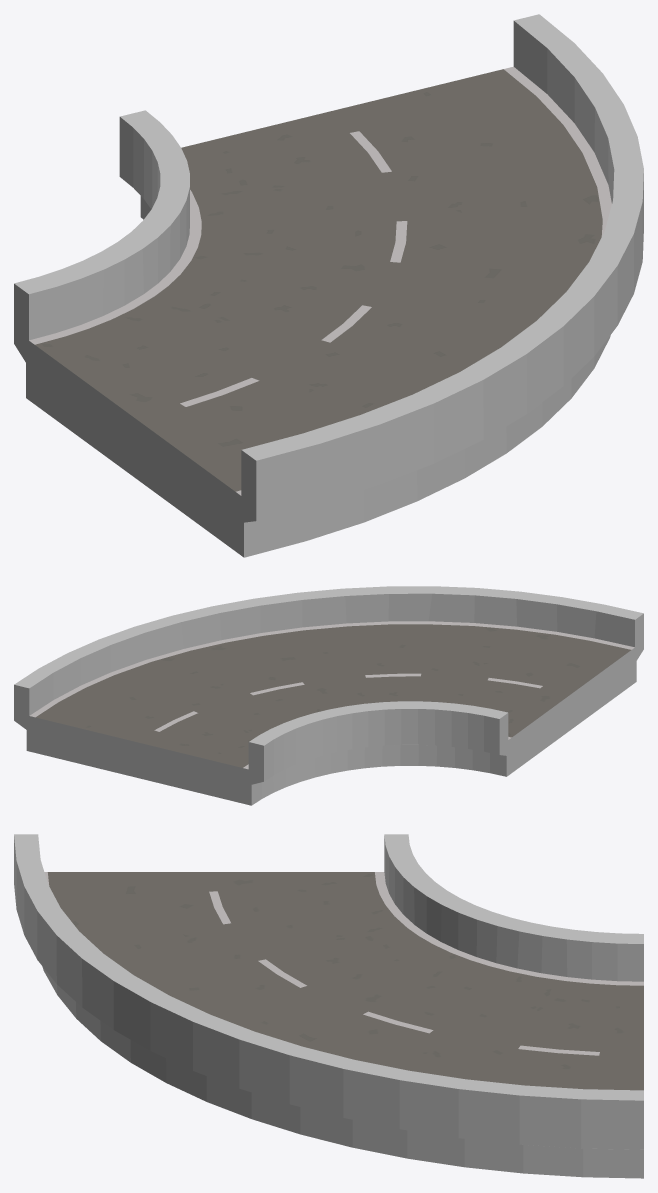
Rendered from SM_Env_Road_Highway_Corner_01.fbx.
The picture shows the model from 3 angles, top to bottom: view 1: azimuth 30°, elevation 25°; view 2: azimuth 150°, elevation 25°; view 3: azimuth 270°, elevation 25°; orthographic projection. The views are drawn at different scales.
Visible parts, largest first — view 1: SM_Env_Road_Highway_Corner_01; view 2: SM_Env_Road_Highway_Corner_01; view 3: SM_Env_Road_Highway_Corner_01.
Part boxes in pixels (box(x1,y1,x2,y2)): SM_Env_Road_Highway_Corner_01: box(14, 14, 643, 557); SM_Env_Road_Highway_Corner_01: box(14, 586, 643, 805); SM_Env_Road_Highway_Corner_01: box(14, 834, 643, 1178).
Bounding box in the file's own units: 1820 × 275 × 1820.
